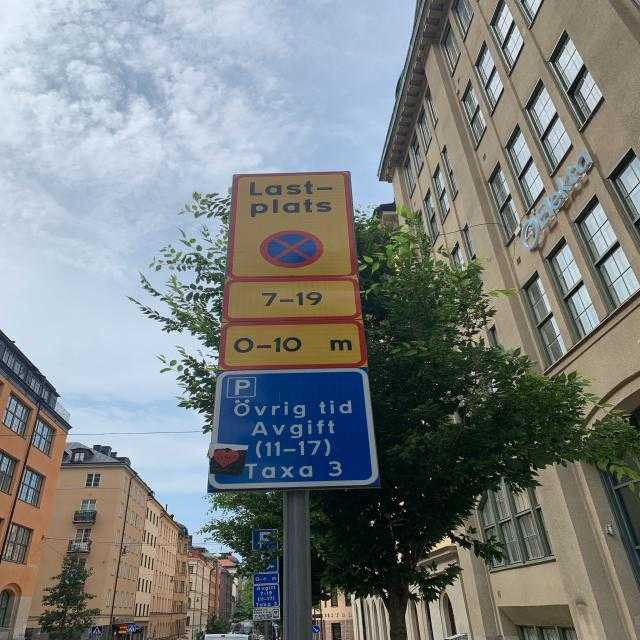lastplats: (228, 171, 358, 278)
psign: (252, 529, 278, 551)
